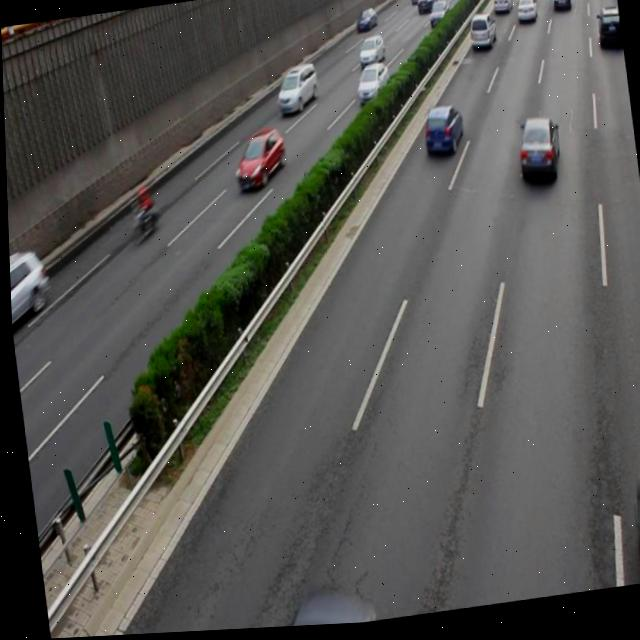car: (7, 248, 53, 332), (230, 130, 285, 192), (511, 120, 558, 188), (418, 106, 464, 162), (273, 64, 319, 120), (352, 63, 391, 110), (592, 10, 623, 57), (355, 36, 385, 71)
truck: (464, 15, 496, 56)
